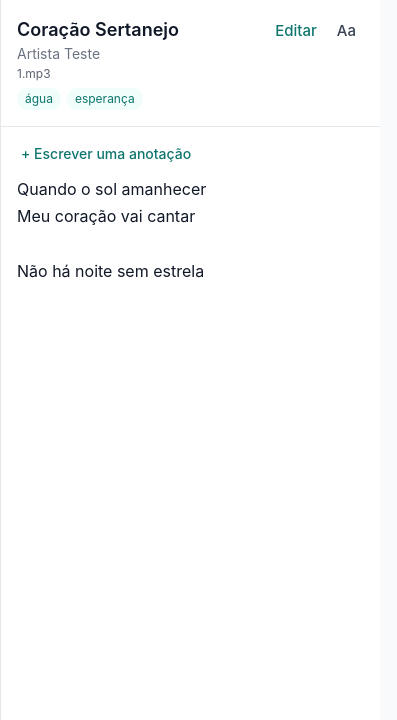
Scenario: LyricsPanel — modo de edição (V4 F10) › salvar feliz: writeTags com os dados digitados, toast exato, atualiza stores e sai da edição
Expected: the text with test id "lyrics-body" is shown, [17, 179, 206, 281]
Click the button "Editar": (296,31) [267, 16, 325, 46]
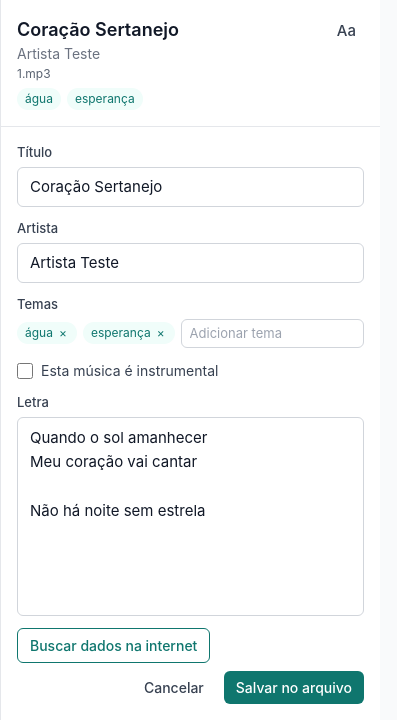
Replace the text in the field labelled "Título" with "Título Novo": (190,187) [17, 166, 364, 207]
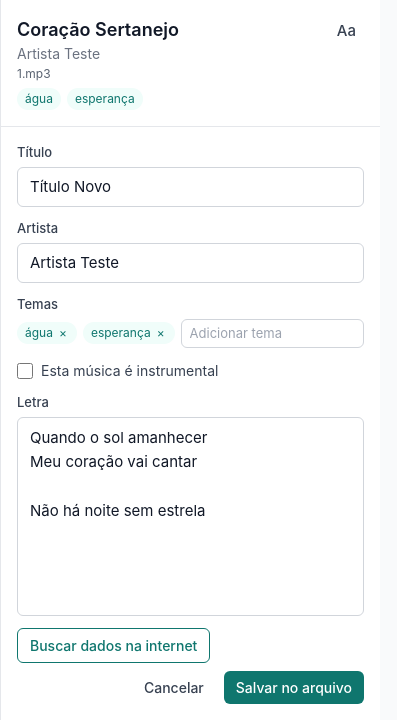
In the field with placeholder "Adicionar tema": (272,333) [181, 318, 364, 348], type "fé"
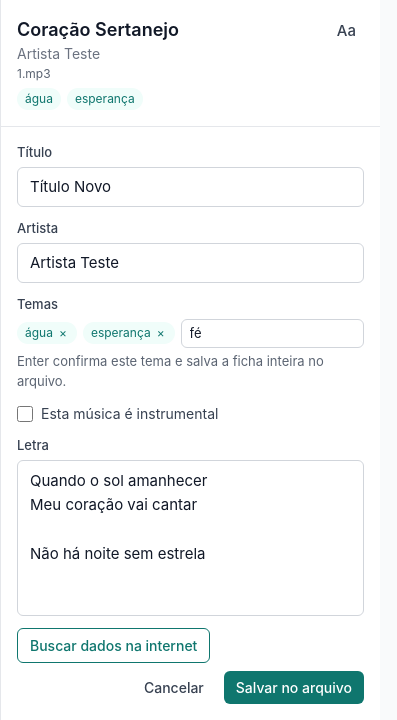
Leave the field with placeholder "Adicionar tema", box [181, 318, 364, 348]
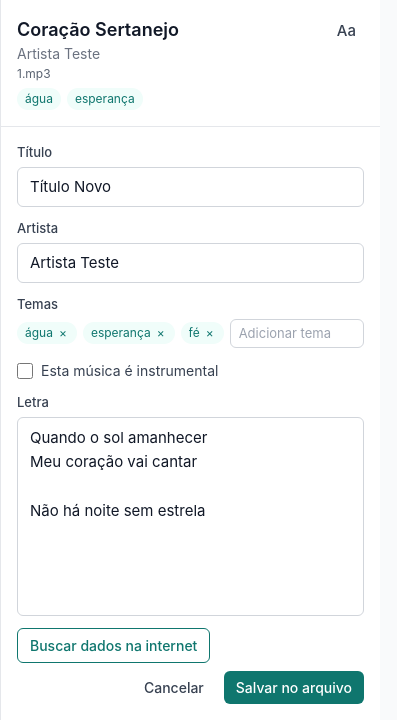
Expected: the button named "Remover tema fé" is shown, [204, 324, 216, 342]
Click the button named "Remover tema água": (63,333) [57, 324, 69, 342]
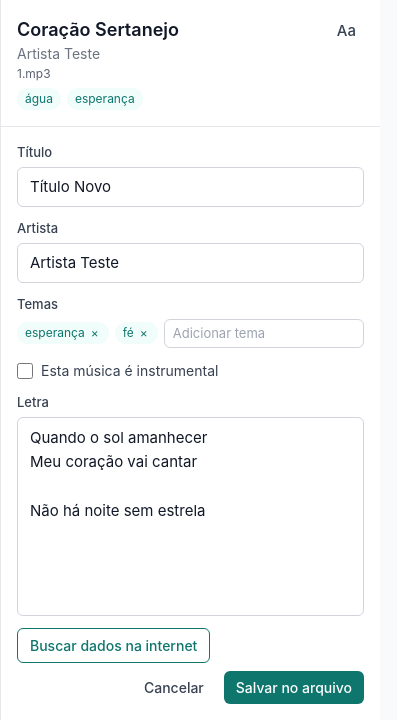
Click the button "Salvar no arquivo": (294,688) [224, 671, 364, 704]
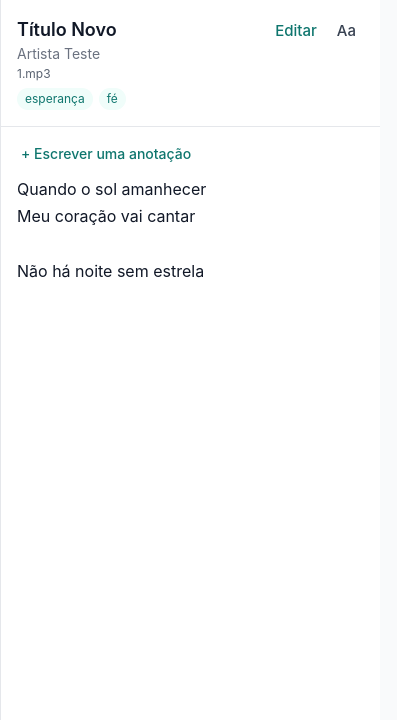
Expected: the heading "Título Novo" is shown, [17, 16, 126, 43]
Expected: the text with test id "lyrics-body" is shown, [17, 179, 206, 281]
